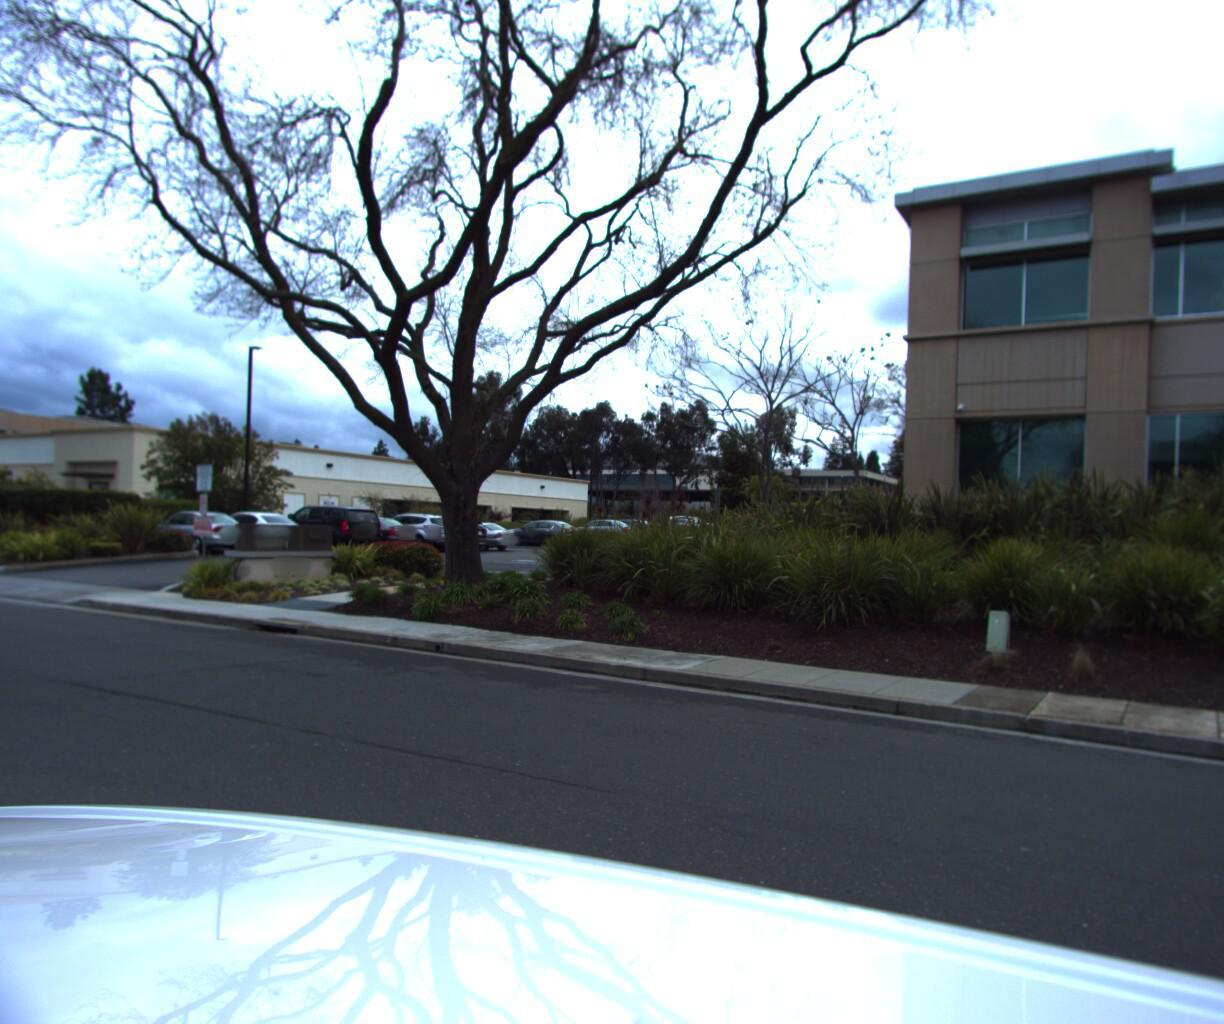car: (136, 494, 258, 557)
